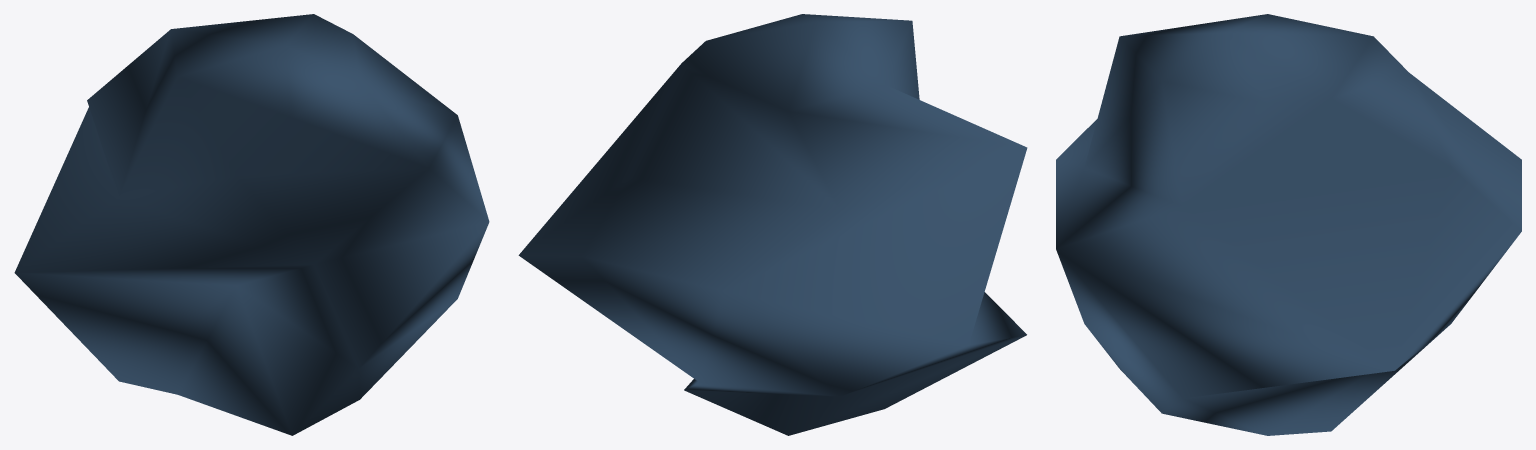
File: rock-water.obj
3 renders of one model, left to right at view 1: azimuth 30°, elevation 25°; view 2: azimuth 150°, elevation 25°; view 3: azimuth 270°, elevation 25°, orthographic. The views are drawn at different scales.
Parts seen in each view (by area): view 1: objdefault; view 2: objdefault; view 3: objdefault.
Part boxes in pixels (left/top/right/bottom): objdefault: left=14, top=14, right=489, bottom=435; objdefault: left=518, top=14, right=1027, bottom=435; objdefault: left=1056, top=14, right=1521, bottom=435.
Bounding box in the file's own units: 1.2 × 1 × 1.1.
